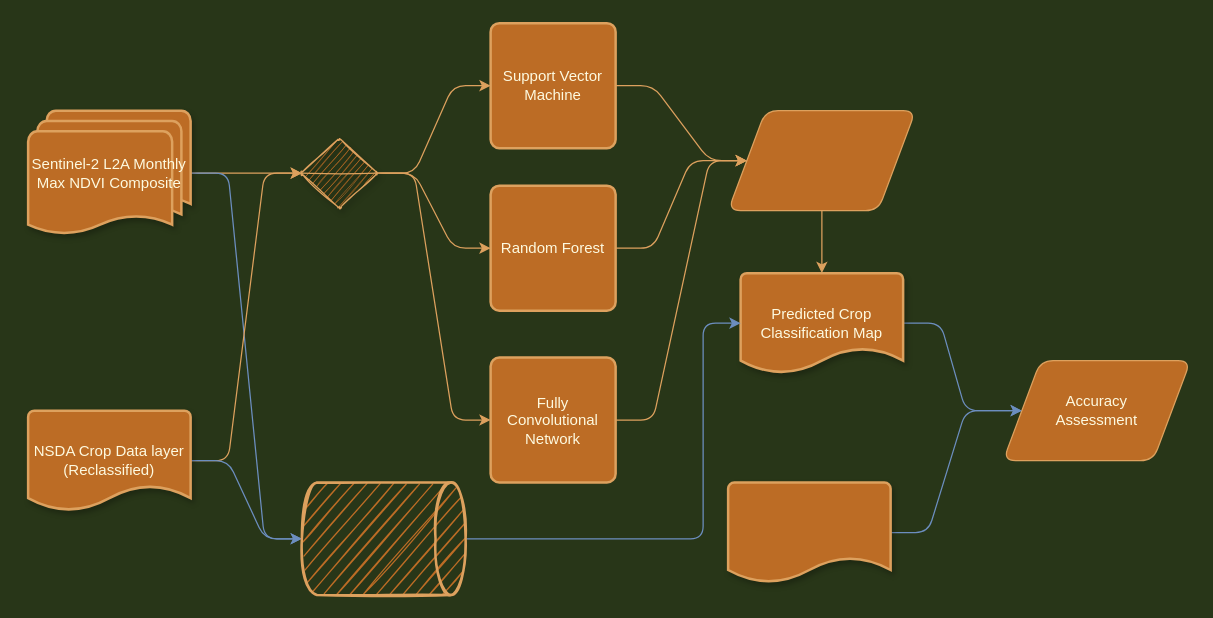
This 1213x618 diagram has some shape labels left out. The shapes that lost their labels are listed below. From the top down, each one's centre as x and y in pixels, then its label:
At [340,174]: "2019: Train Test Validation".
At [821,160]: "Model Perforamce Evaluation".
At [383,538]: "2020: Prediction using 2019 trained model".
At [810,534]: "NSDA Crop Data layer (2020 - Reclassified)".
